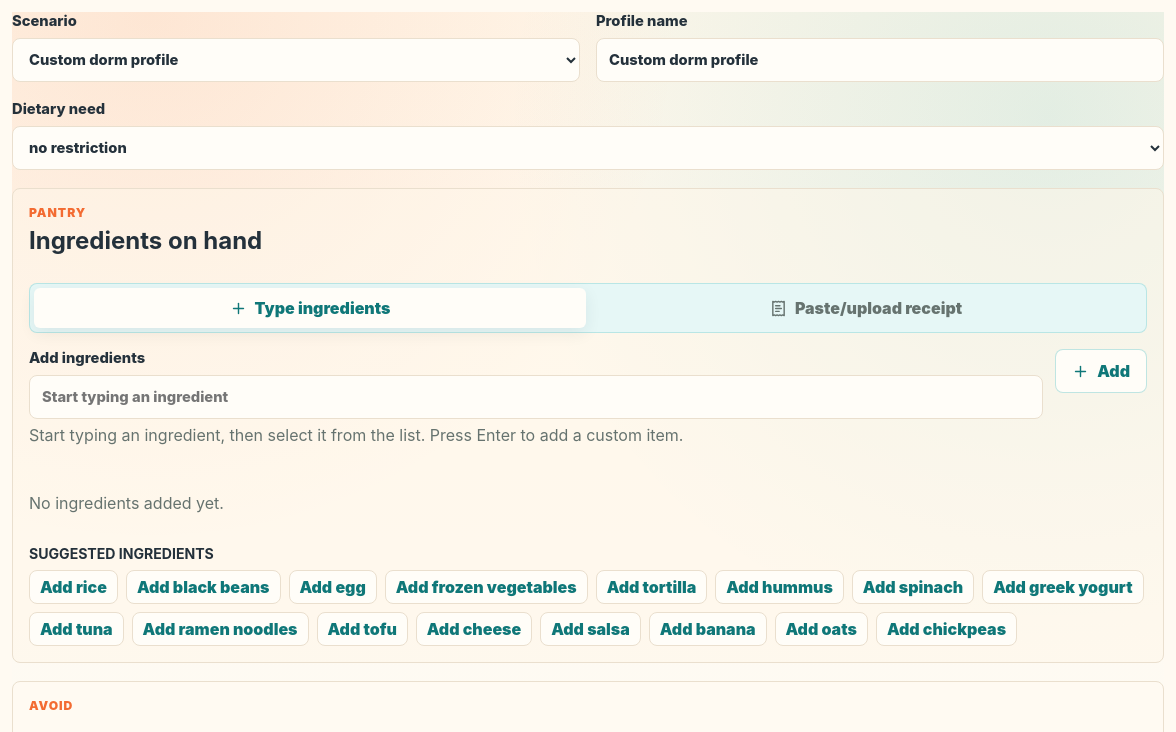
Test: PreferenceForm › autocompletes catalog ingredients and keeps custom entry
Type "black bean" into the dropdown labelled "Add ingredients" at (536, 397), box [29,375,1043,419]
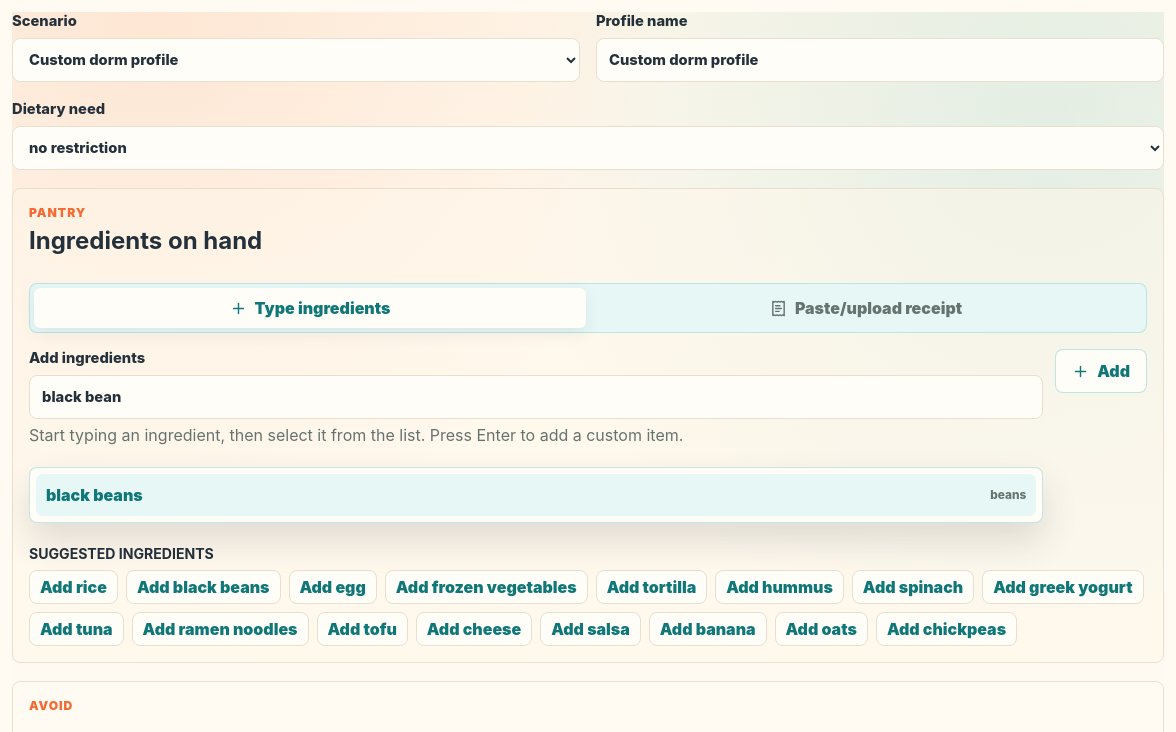
Press the mouse on the option "black beans beans" at (94, 495), box [36,474,1036,516]
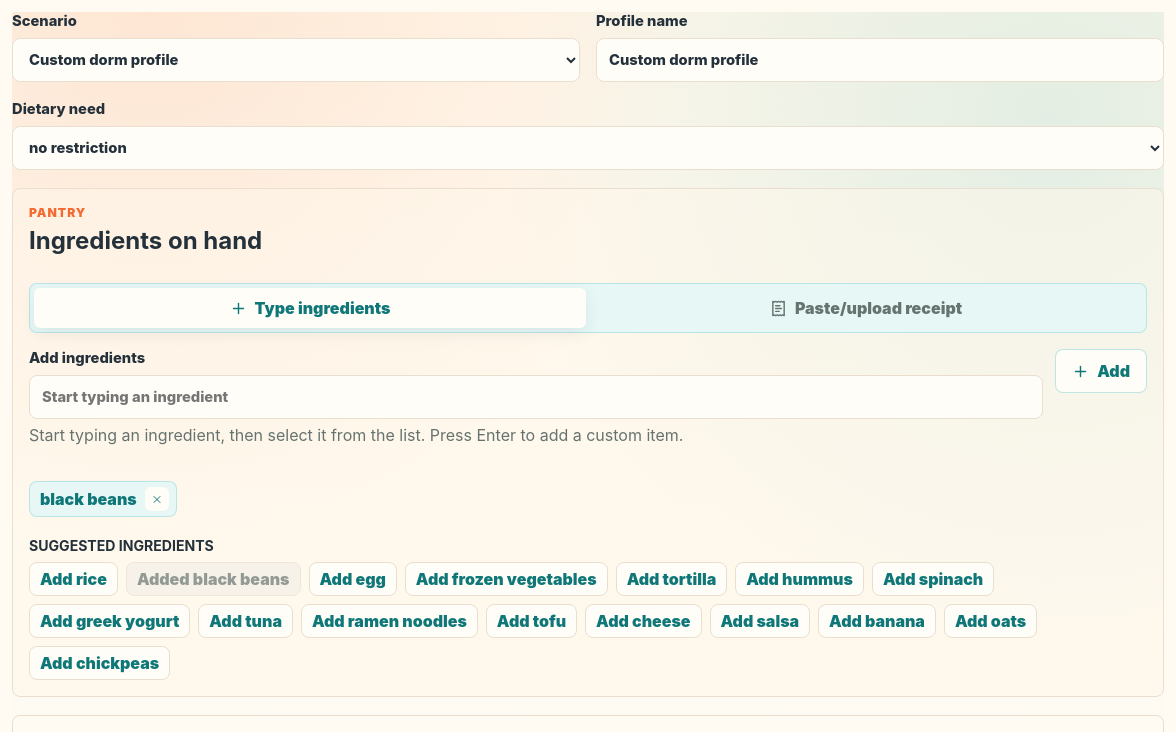
Now the text "black beans" is shown, box [29,481,177,517]
Type "instant ramen" into the dropdown labelled "Add ingredients" at (536, 397), box [29,375,1043,419]
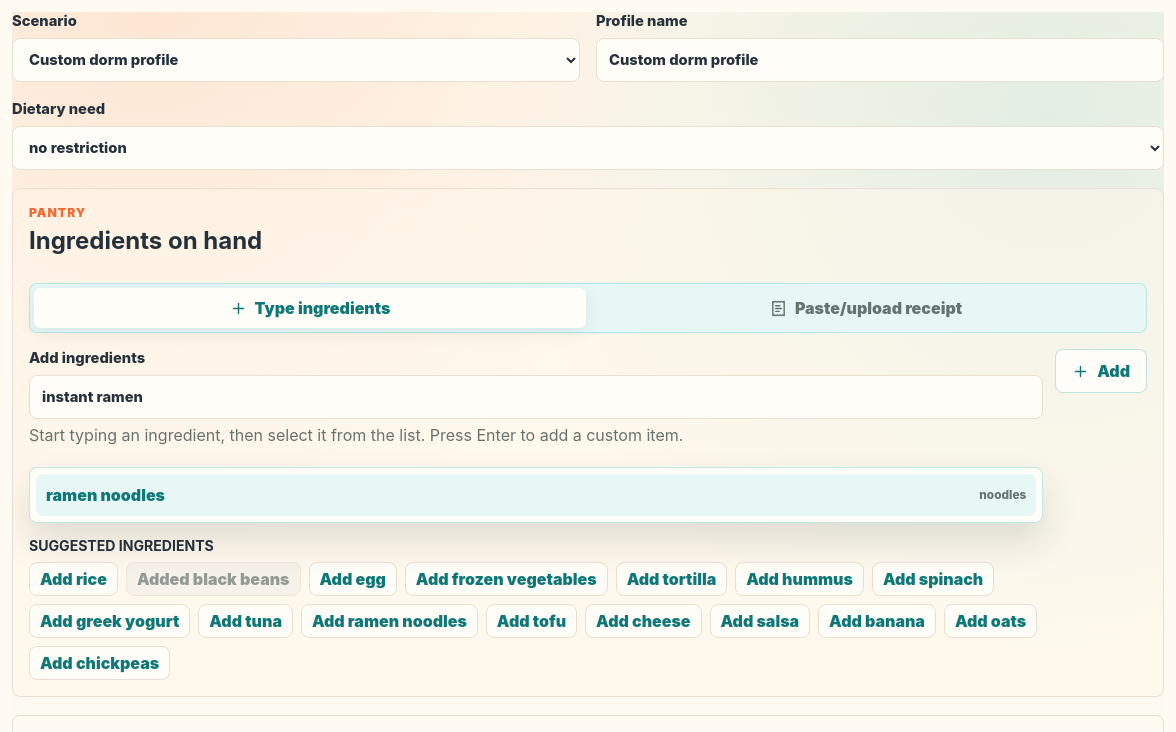
Press Enter in the dropdown labelled "Add ingredients", box [29,375,1043,419]
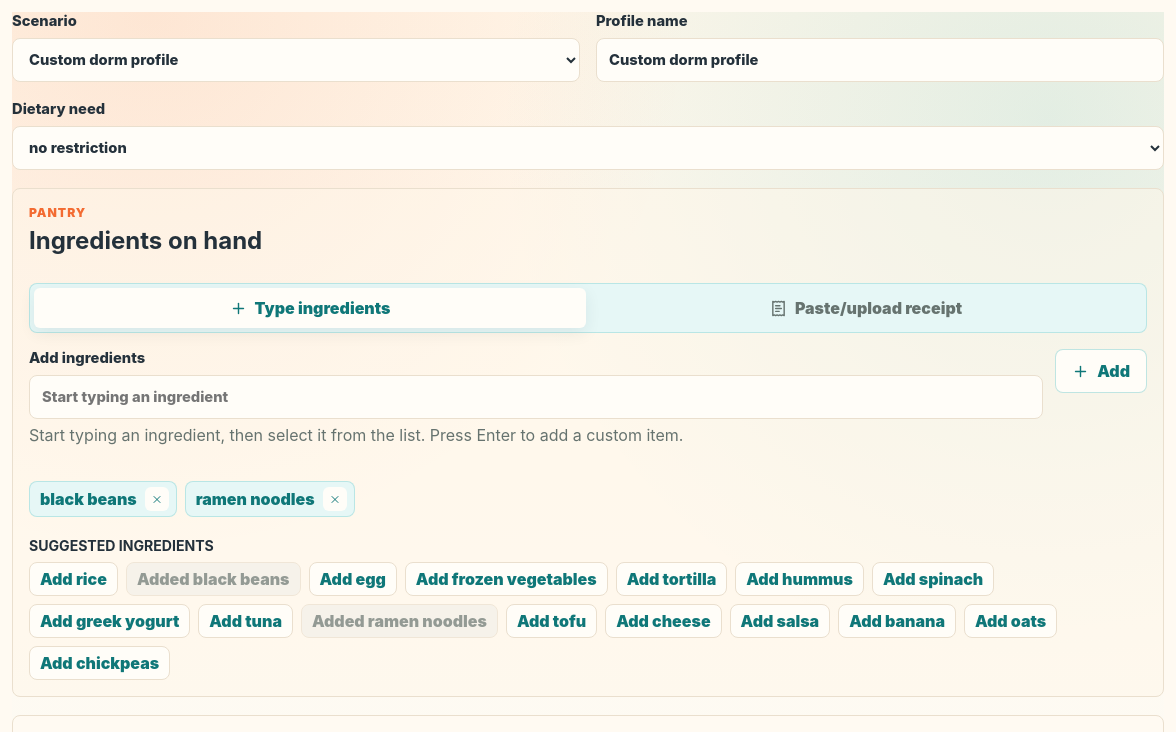
Now the text "ramen noodles" is shown, box [185,481,355,517]
Type "tajin" into the dropdown labelled "Add ingredients" at (536, 397), box [29,375,1043,419]
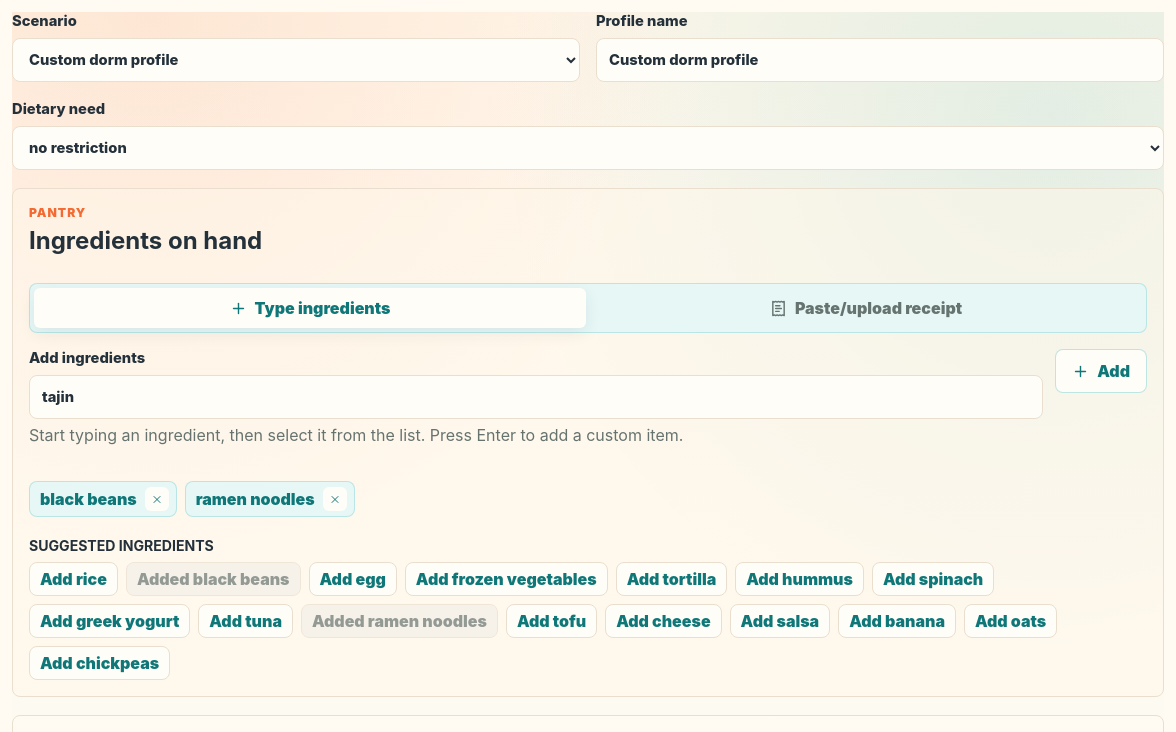
Press Enter in the dropdown labelled "Add ingredients", box [29,375,1043,419]
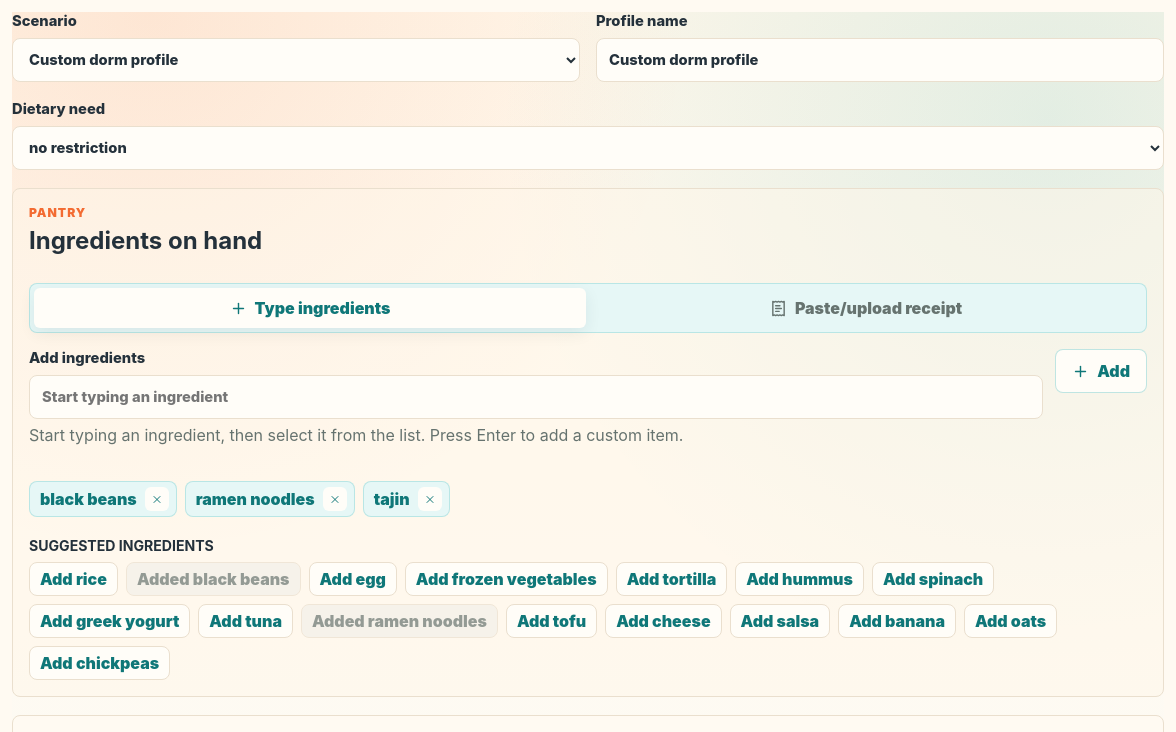
Now the text "tajin" is shown, box [363,481,450,517]
